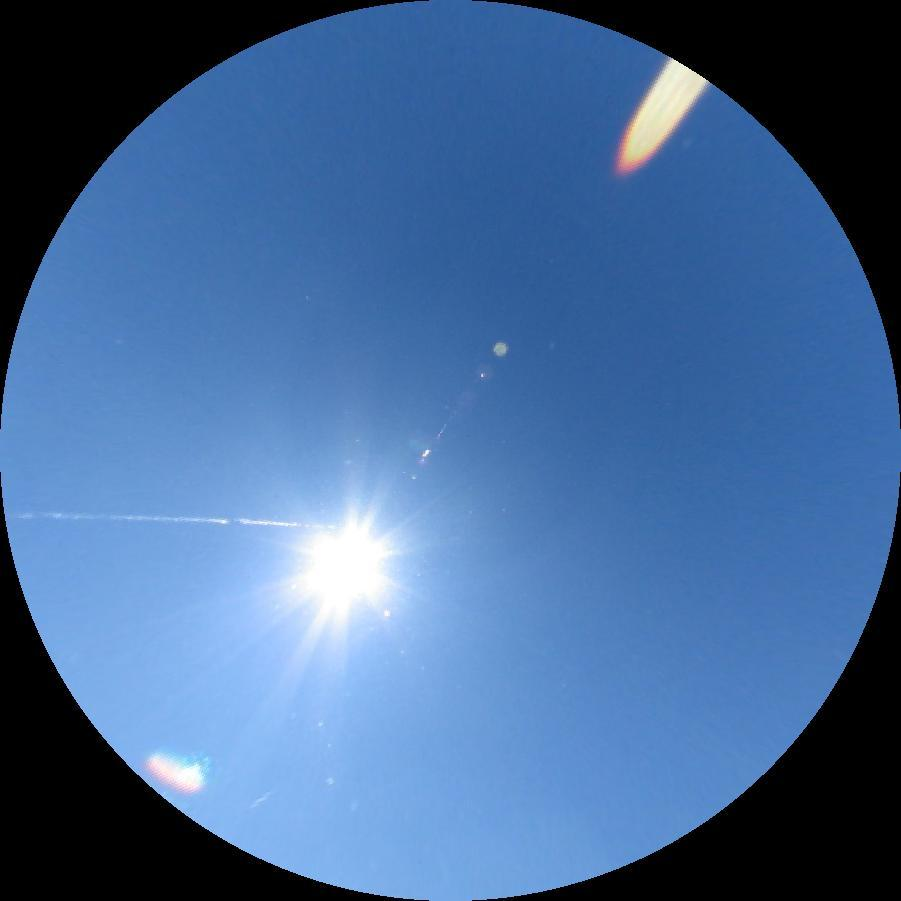contrail young: (244, 791, 273, 814)
parasite: (8, 511, 323, 530)
sun: (276, 507, 411, 636)
